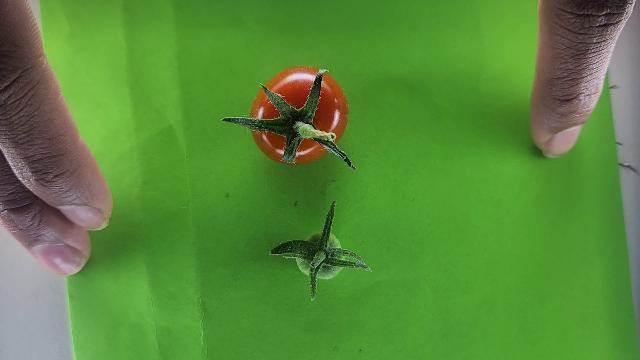Fruit Maturation: (296, 232, 345, 279)
Fully Grown: (250, 65, 349, 165)
